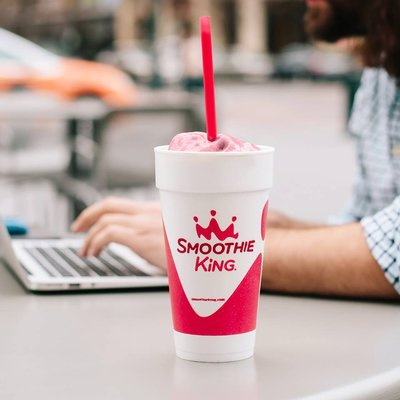pizza: (153, 138, 277, 364)
